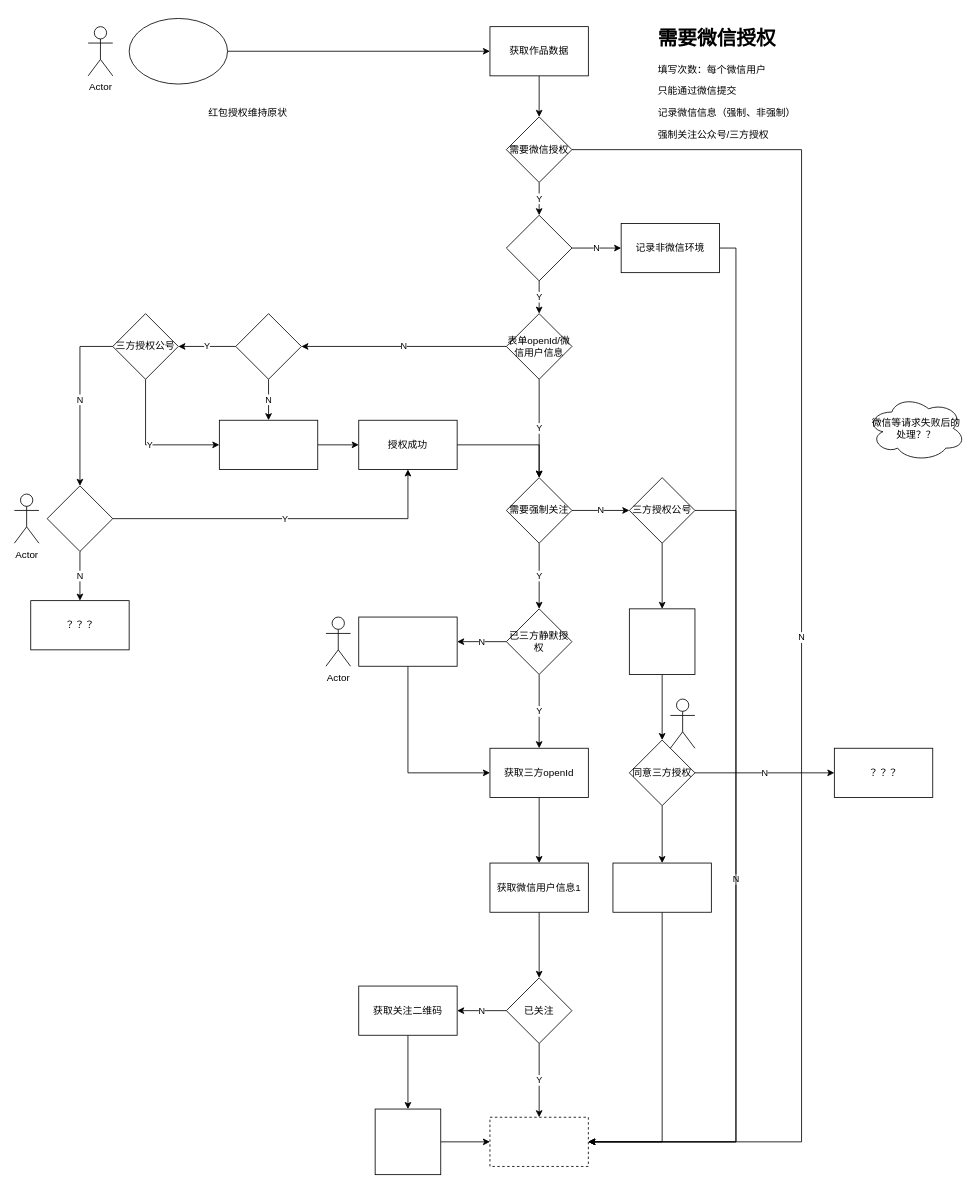
Some shapes in this 980 by 1189 pixel diagram are drawn without their labels. Here are the shapes that lost their labels. From the top down, the box of each, then its label:
(128, 18, 228, 84): 分享页
(506, 214, 572, 281): 是否微信环境
(235, 313, 301, 379): 需要强制授权
(219, 419, 318, 469): 表单静默授权
(46, 485, 113, 551): 同意表单强制授权
(358, 616, 457, 666): 三方静默授权
(629, 608, 695, 674): 三方强制授权
(612, 862, 711, 912): 获取微信用户信息2
(374, 1108, 441, 1175): 记入session
(489, 1116, 588, 1166): 跳转分享地址
